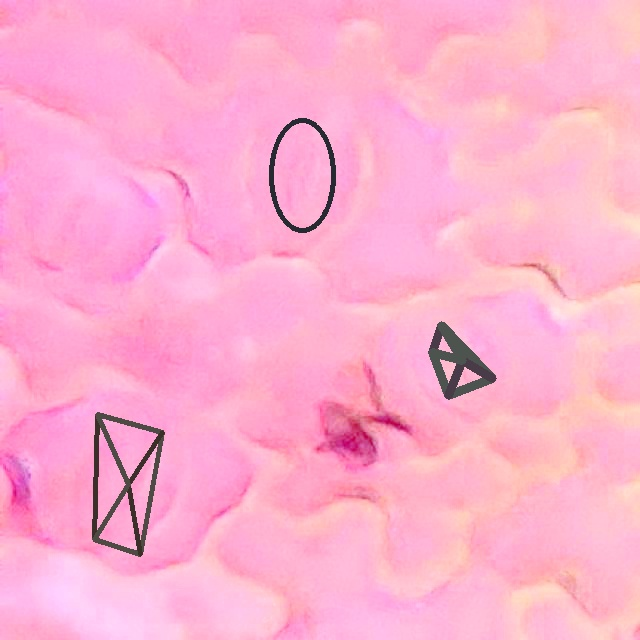open: (93, 413, 164, 556), (268, 117, 337, 233), (428, 321, 496, 399)
